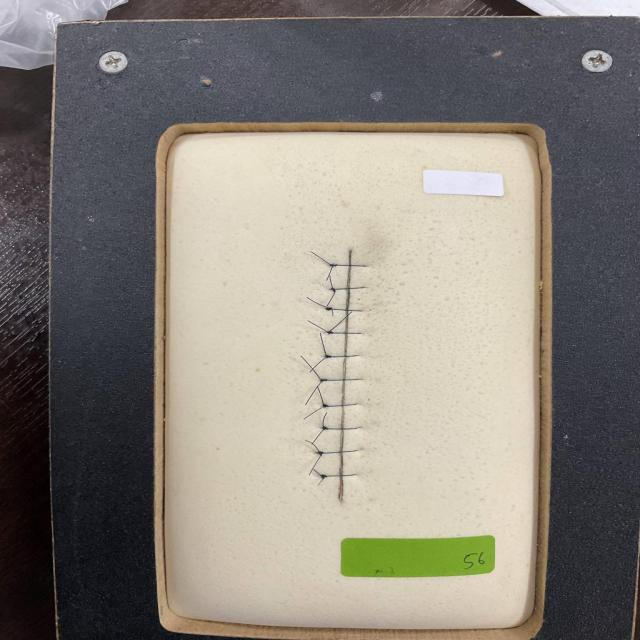knot: (315, 449, 326, 458), (318, 473, 330, 481), (327, 262, 340, 269), (317, 377, 330, 384), (320, 424, 331, 432), (328, 286, 339, 294), (320, 403, 331, 410), (323, 353, 334, 360), (323, 306, 335, 312), (325, 329, 335, 336)
leftover: (300, 355, 322, 381), (328, 311, 352, 332), (304, 381, 322, 405), (309, 356, 328, 373), (308, 454, 322, 476), (303, 406, 325, 420), (310, 251, 331, 265), (306, 297, 330, 309), (307, 320, 329, 333), (311, 428, 325, 445), (319, 332, 327, 357), (305, 440, 320, 453), (316, 385, 325, 406), (326, 290, 335, 306), (325, 265, 334, 281), (322, 412, 328, 428), (312, 469, 323, 476), (316, 477, 324, 486), (329, 275, 333, 289), (330, 308, 334, 316)
stitch: (315, 450, 358, 454), (324, 308, 362, 312), (329, 287, 365, 291), (322, 403, 357, 407), (326, 264, 367, 267), (321, 427, 358, 430), (321, 474, 355, 477), (325, 355, 357, 358), (320, 379, 359, 381), (327, 332, 360, 334)
wound: (339, 251, 351, 501)
